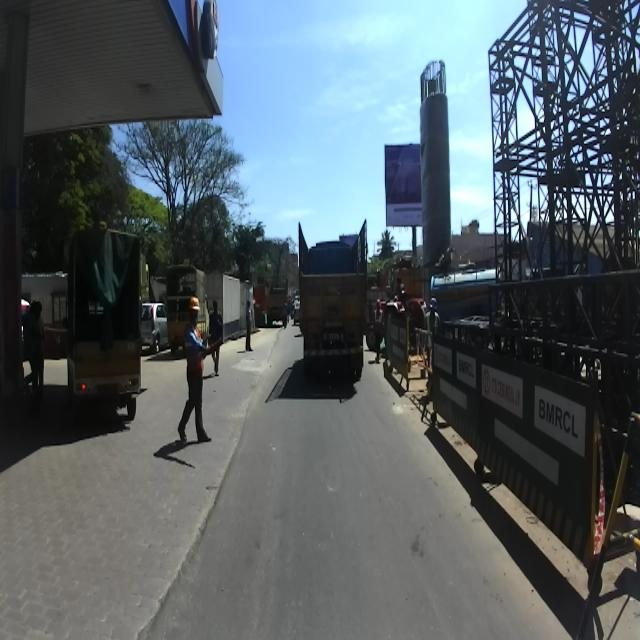person ahead at: (176, 296, 217, 455)
truck ahead at: (289, 217, 374, 363)
